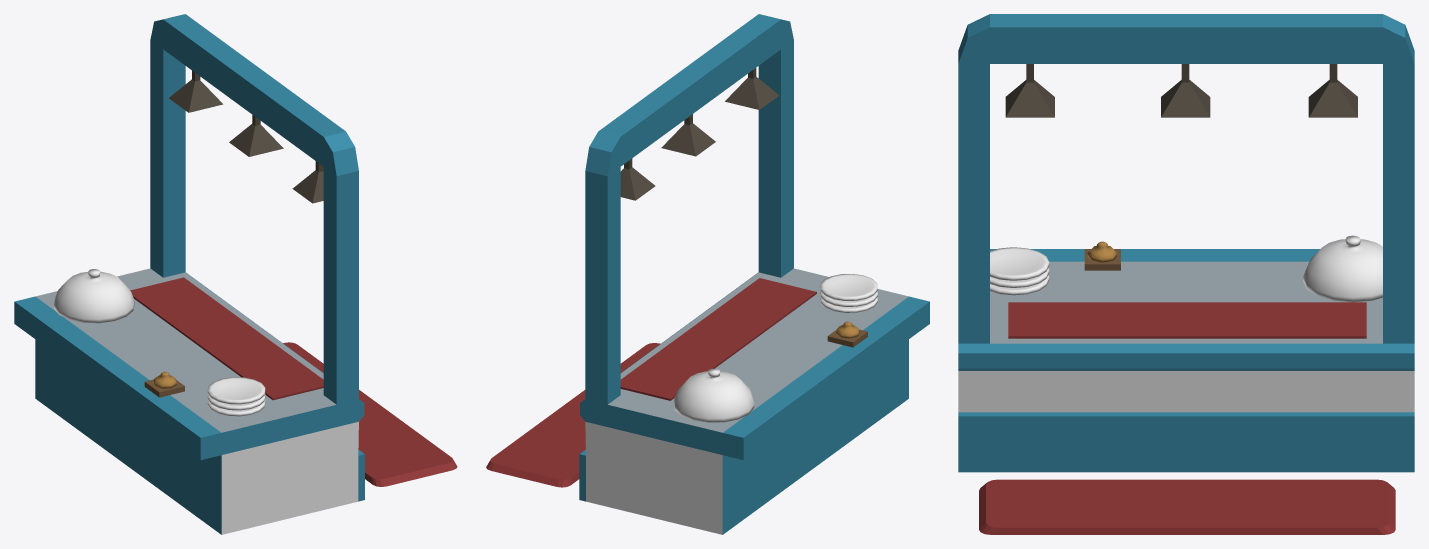
Rendered from 3D_workstation_Dish-pass.fbx.
3 renders of one model, left to right at view 1: azimuth 30°, elevation 25°; view 2: azimuth 150°, elevation 25°; view 3: azimuth 270°, elevation 25°, orthographic. The views are drawn at different scales.
Parts seen in each view (by area): view 1: 3D_workstation_Dish-pass_table; view 2: 3D_workstation_Dish-pass_table; view 3: 3D_workstation_Dish-pass_table.
Boxes of the visible parts, box(x1,y1,x2,y2) form: 3D_workstation_Dish-pass_table: box(14, 14, 457, 534); 3D_workstation_Dish-pass_table: box(486, 14, 929, 534); 3D_workstation_Dish-pass_table: box(958, 14, 1414, 534).
Size of the model in its own units: 1.61 by 2.07 by 1.94.
